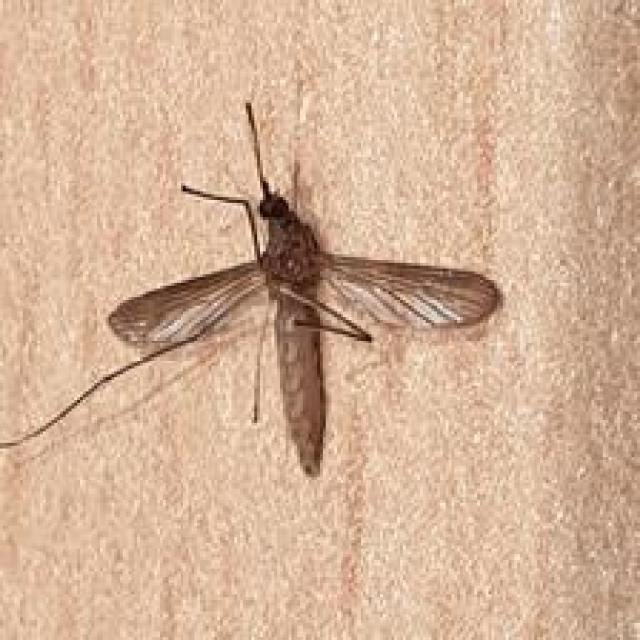Culex: (0, 97, 503, 480)
